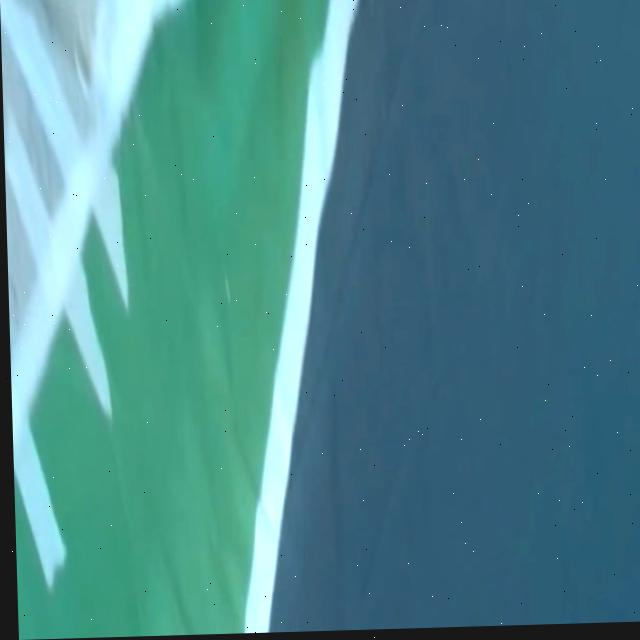right: (246, 0, 359, 633)
